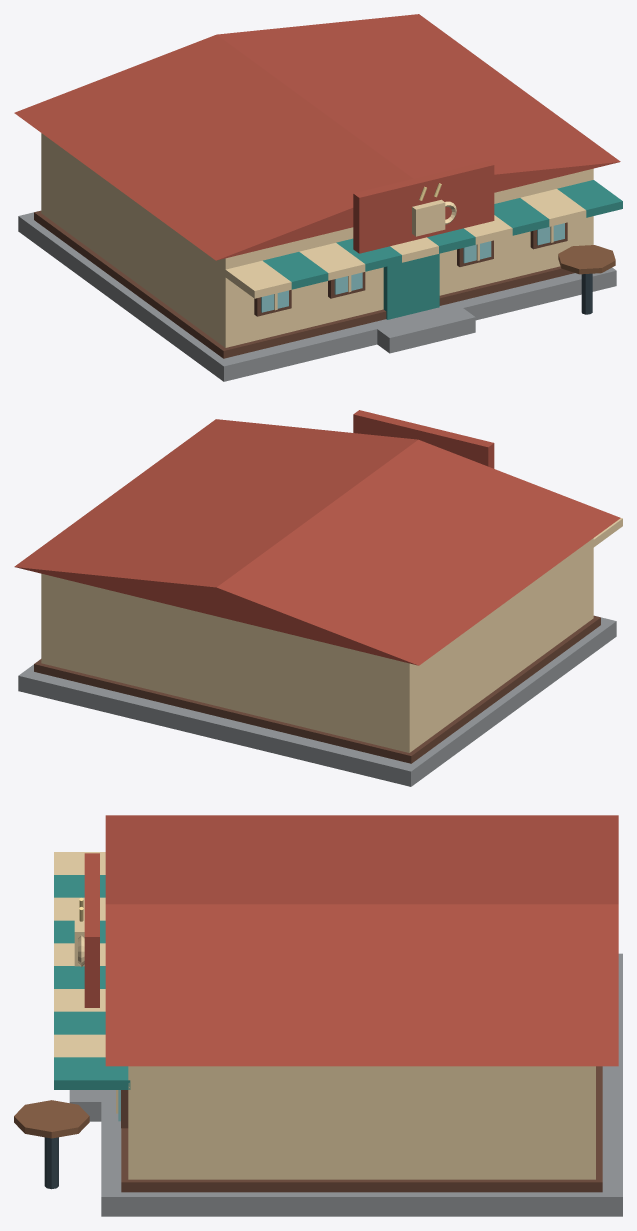
File: storefront_cafe.glb
The picture shows the model from 3 angles, top to bottom: view 1: azimuth 30°, elevation 25°; view 2: azimuth 150°, elevation 25°; view 3: azimuth 270°, elevation 25°; orthographic projection. The views are drawn at different scales.
Parts seen in each view (by area): view 1: gable_roof, walls, foundation, signboard, cornice, door, step, awning, table, awning.001, awning.002, awning.008 (+7 smaller); view 2: gable_roof, walls, foundation, cornice, signboard; view 3: gable_roof, walls, foundation, cornice, signboard, awning.009, table, awning.007, awning.008, step, awning.006, awning (+6 smaller).
Boxes of the visible parts, left/top/right/bottom form: gable_roof: left=14, top=14, right=620, bottom=260; walls: left=41, top=133, right=593, bottom=347; foundation: left=18, top=212, right=616, bottom=381; signboard: left=353, top=160, right=494, bottom=253; cornice: left=34, top=210, right=574, bottom=358; door: left=383, top=253, right=439, bottom=319; step: left=372, top=308, right=475, bottom=353; awning: left=224, top=260, right=291, bottom=298; table: left=558, top=245, right=615, bottom=274; awning.001: left=263, top=252, right=328, bottom=289; awning.002: left=299, top=243, right=365, bottom=280; awning.008: left=520, top=189, right=586, bottom=226; gable_roof: left=14, top=419, right=620, bottom=665; walls: left=41, top=538, right=593, bottom=752; foundation: left=18, top=617, right=616, bottom=786; cornice: left=34, top=615, right=600, bottom=763; signboard: left=353, top=410, right=494, bottom=468; gable_roof: left=105, top=815, right=618, bottom=1066; walls: left=128, top=1066, right=595, bottom=1179; foundation: left=101, top=953, right=622, bottom=1216; cornice: left=121, top=1066, right=602, bottom=1192; signboard: left=84, top=853, right=99, bottom=1007; awning.009: left=54, top=1057, right=130, bottom=1089; table: left=14, top=1100, right=89, bottom=1138; awning.007: left=54, top=1011, right=105, bottom=1034; awning.008: left=54, top=1034, right=105, bottom=1057; step: left=69, top=1090, right=115, bottom=1121; awning.006: left=54, top=989, right=105, bottom=1011; awning: left=54, top=852, right=105, bottom=874.
Size of the model in its own units: 6.6 by 2.45 by 6.77.
